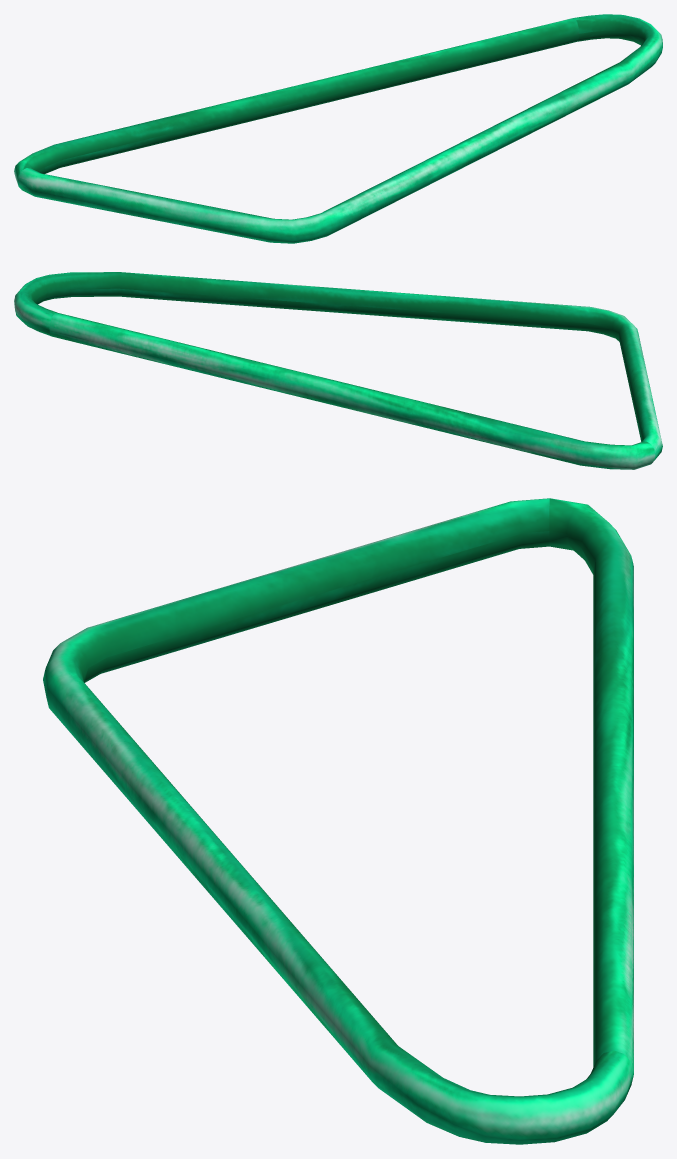
Rendered from slingshotRight_bumper.fbx.
3 views of the same model, one above another, from view 1: azimuth 30°, elevation 25°; view 2: azimuth 150°, elevation 25°; view 3: azimuth 270°, elevation 25° (orthographic). The views are drawn at different scales.
Visible parts, largest first — view 1: Object010; view 2: Object010; view 3: Object010.
Boxes of the visible parts, x1,y1,x2,y2 form: Object010: [14, 14, 662, 243]; Object010: [14, 272, 662, 469]; Object010: [43, 498, 633, 1144].
Size of the model in its own units: 23.02 by 0.7987 by 9.35.
Materials: 1 (1 with a texture image).
